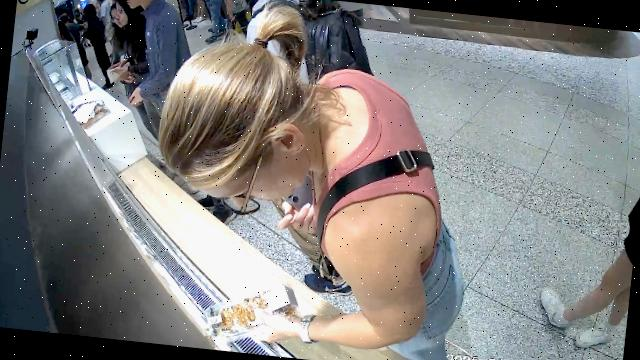sushi-box: (208, 282, 299, 344)
